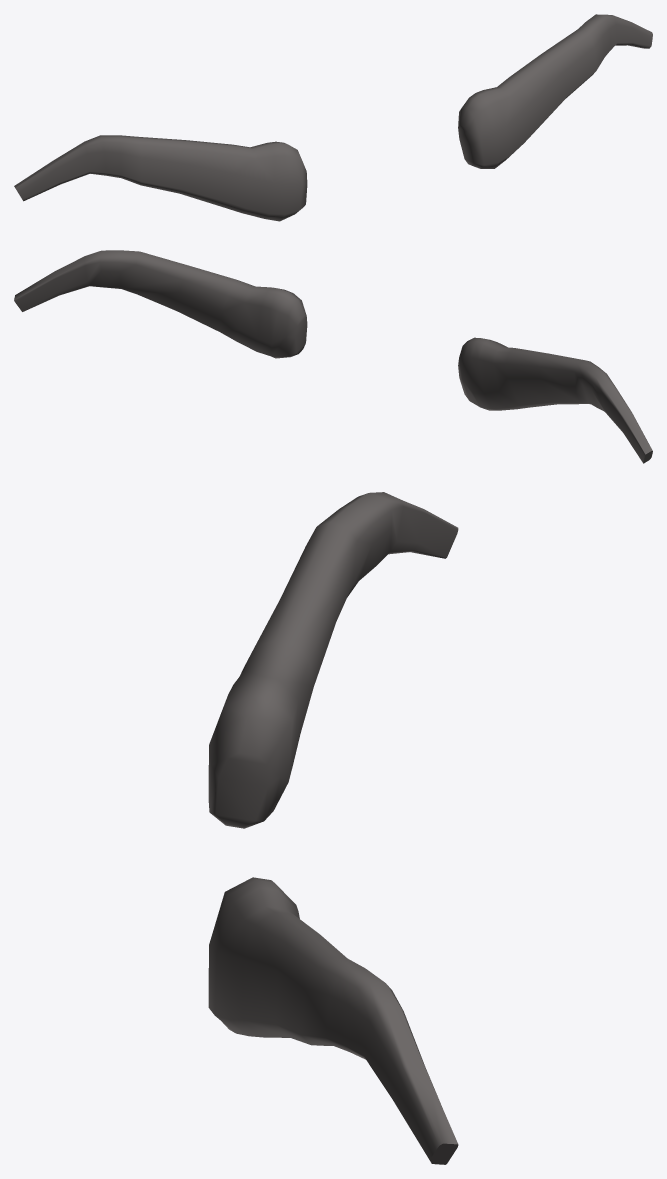
Rendered from Eyebrows_13_04.fbx.
3 views of the same model, one above another, from view 1: azimuth 30°, elevation 25°; view 2: azimuth 150°, elevation 25°; view 3: azimuth 270°, elevation 25° (orthographic). The views are drawn at different scales.
Visible parts, largest first — view 1: Eyebrows_13_04; view 2: Eyebrows_13_04; view 3: Eyebrows_13_04.
Part boxes in pixels (x1,y1,x2,y2): Eyebrows_13_04: [14, 14, 652, 221]; Eyebrows_13_04: [14, 250, 652, 463]; Eyebrows_13_04: [208, 492, 458, 1164].
Bounding box in the file's own units: 19.7 × 2.81 × 3.35.
